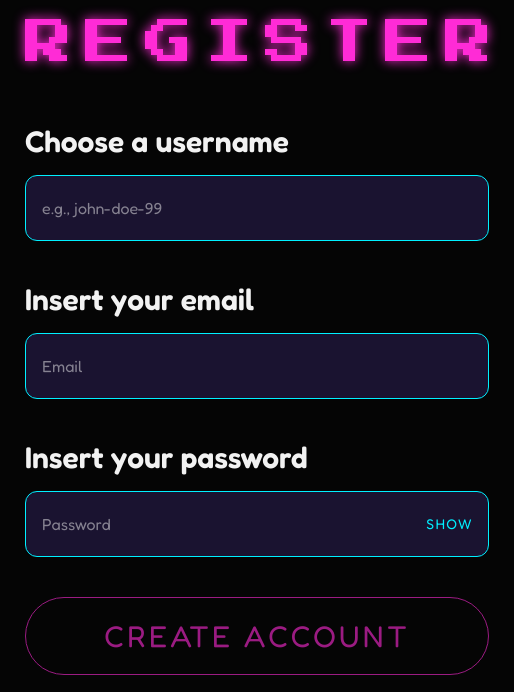
Test case: Register page › shows the correct validation message for username jo
Type "jo" into the field labelled "Choose a username" at (257, 208), box top-left (25, 175), bottom-right (489, 241)
(page scrolled)
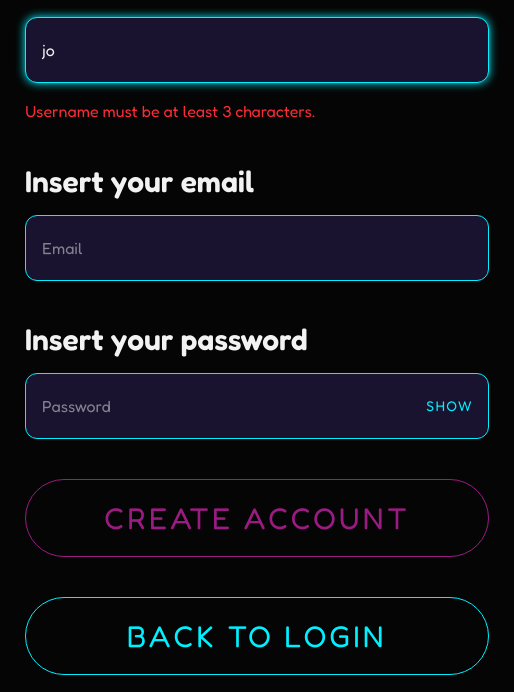
Expected: the button "Create account" is disabled, top-left (25, 479), bottom-right (489, 557)
Expected: the text "Username must be at least 3 characters." is shown, top-left (25, 101), bottom-right (315, 121)
